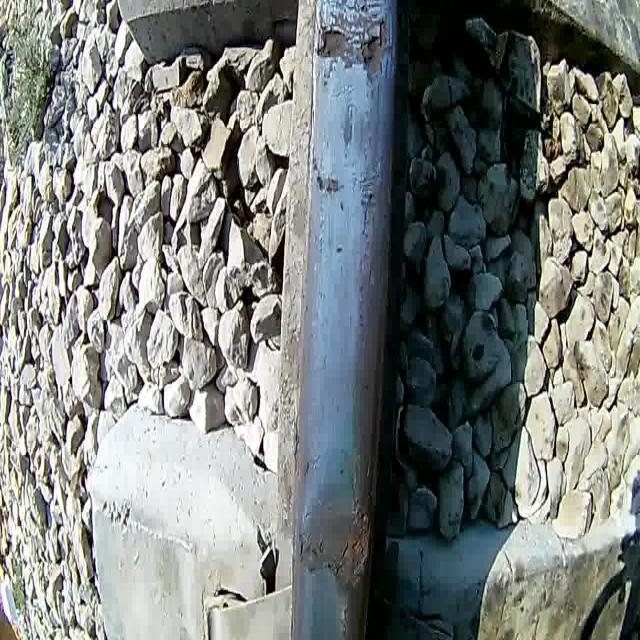Cracks: (331, 535, 351, 581), (360, 188, 377, 242)
Spallings: (357, 15, 391, 83), (350, 498, 373, 590), (316, 18, 349, 71)
Squats: (287, 437, 376, 606), (312, 0, 398, 94), (308, 133, 346, 216), (340, 100, 357, 156)
